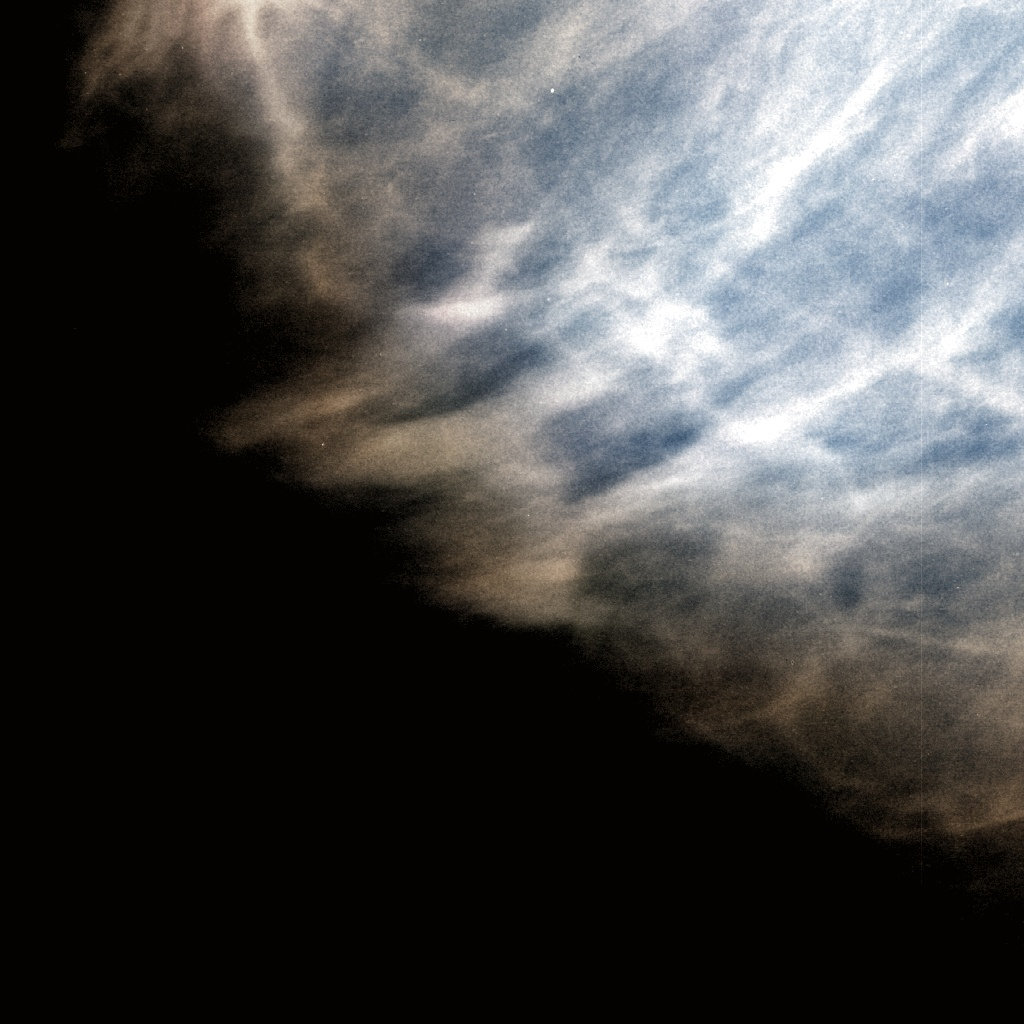tumor: (359, 392, 665, 632)
